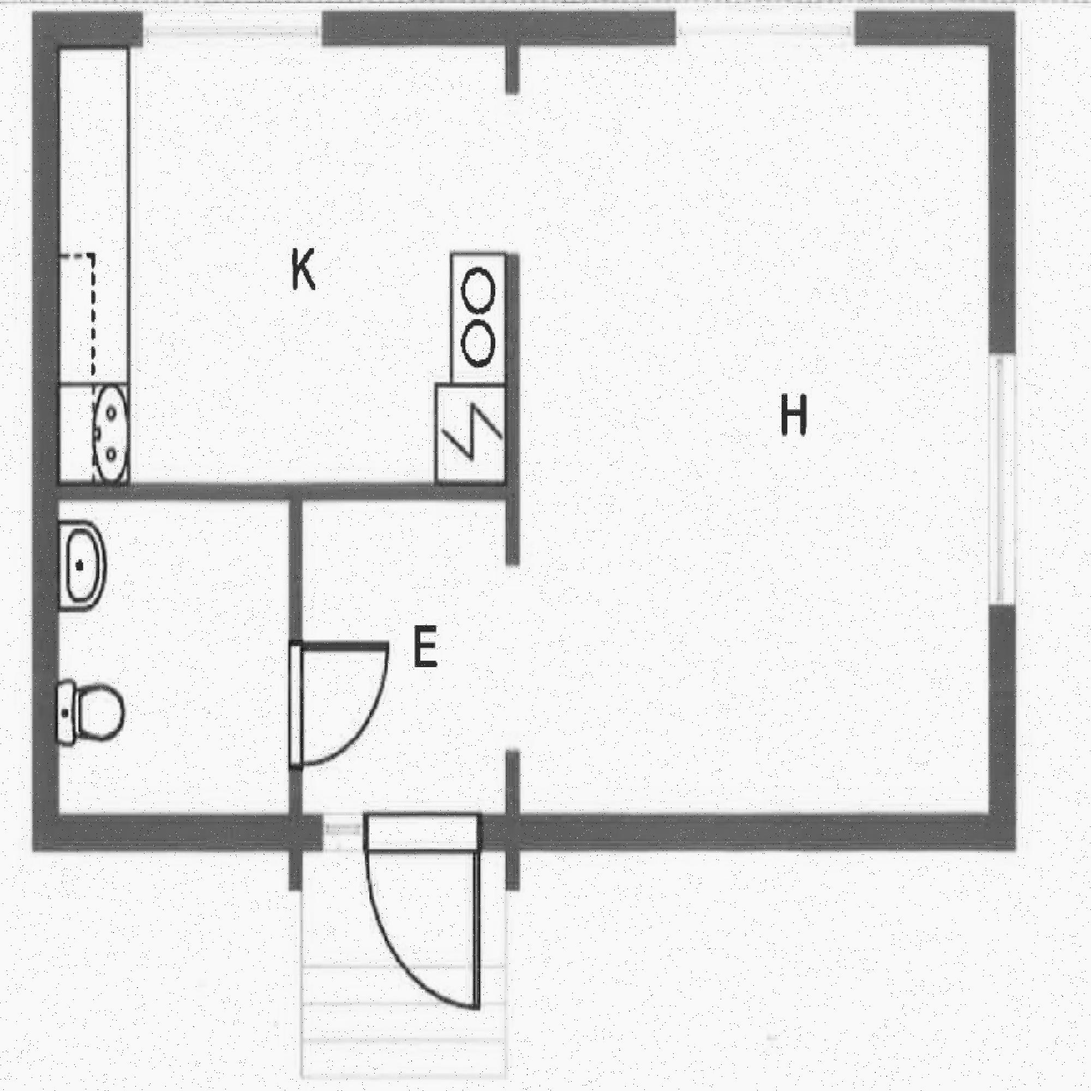wall: (32, 814, 1015, 851), (32, 8, 1015, 45), (32, 8, 59, 849), (988, 8, 1015, 849), (32, 483, 518, 501), (289, 483, 301, 851), (506, 253, 518, 501), (506, 748, 518, 851), (506, 8, 518, 93), (506, 501, 518, 566), (289, 851, 301, 891), (506, 851, 518, 891)
